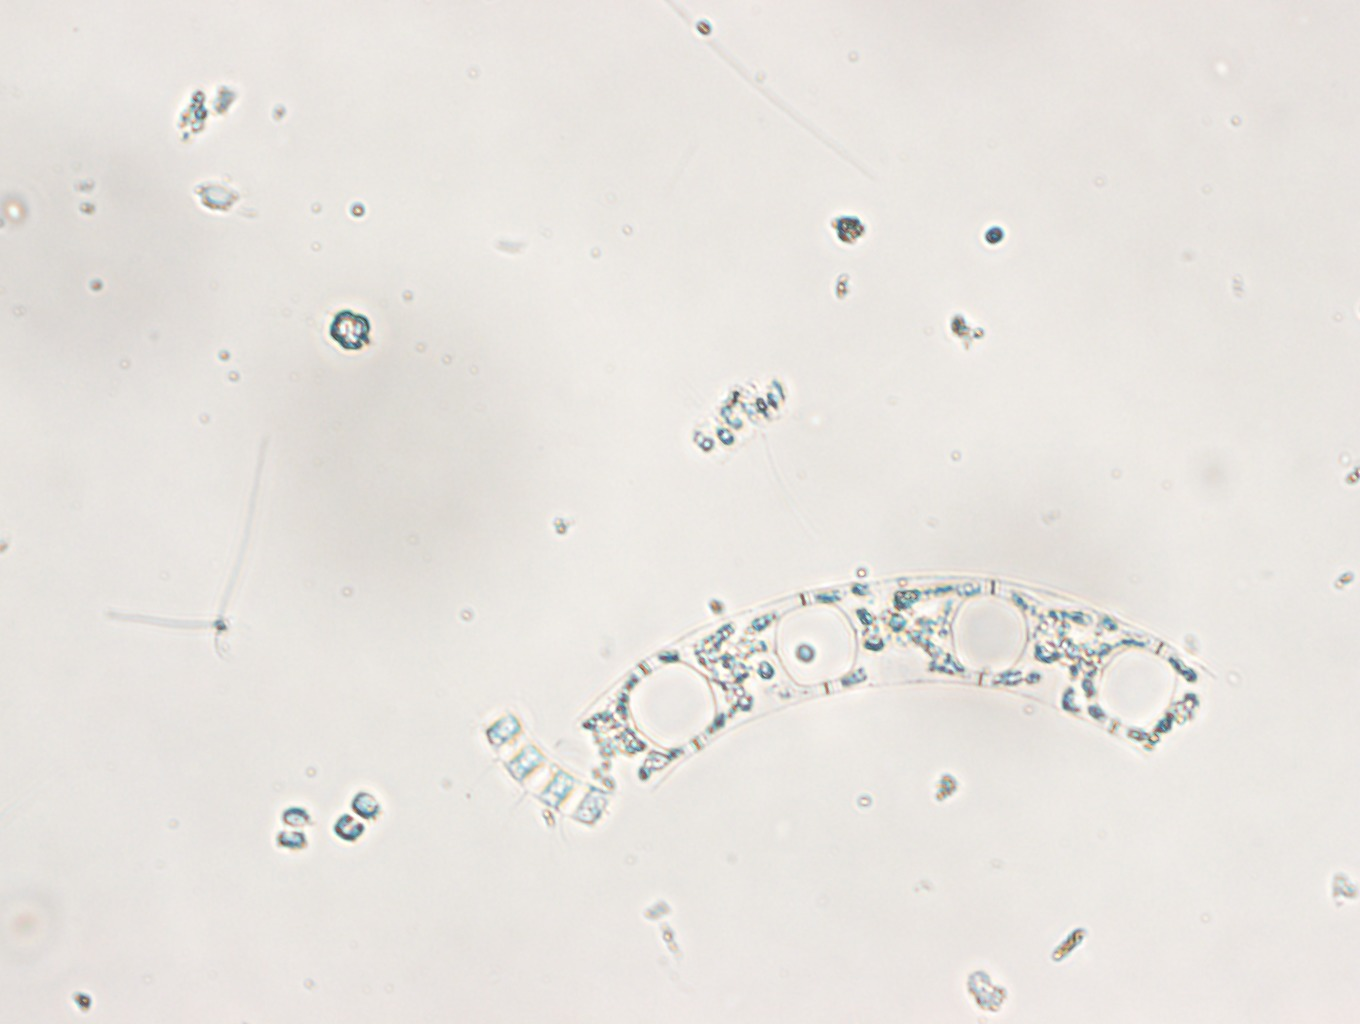eucampia: (571, 572, 1233, 793)
